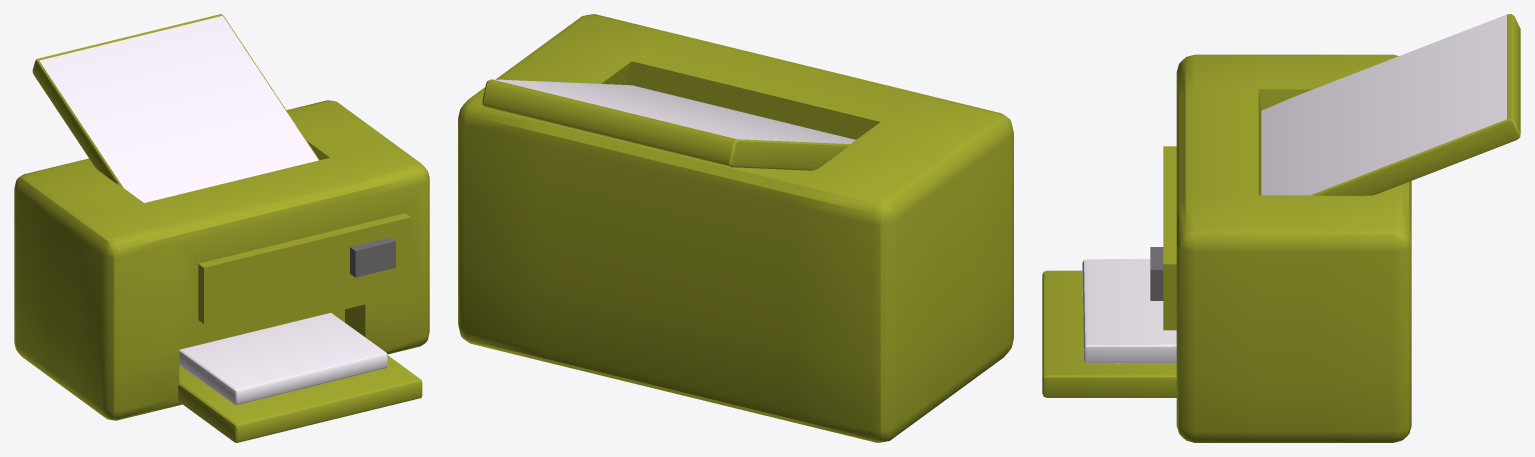
File: printer.fbx
3 renders of one model, left to right at view 1: azimuth 30°, elevation 25°; view 2: azimuth 150°, elevation 25°; view 3: azimuth 270°, elevation 25°, orthographic. The views are drawn at different scales.
Parts seen in each view (by area): view 1: printer; view 2: printer; view 3: printer.
Part boxes in pixels (x1,y1,x2,y2): printer: (14, 14, 429, 442); printer: (458, 14, 1013, 442); printer: (1042, 14, 1520, 442).
Size of the model in its own units: 19.69 by 14.29 by 21.43.
